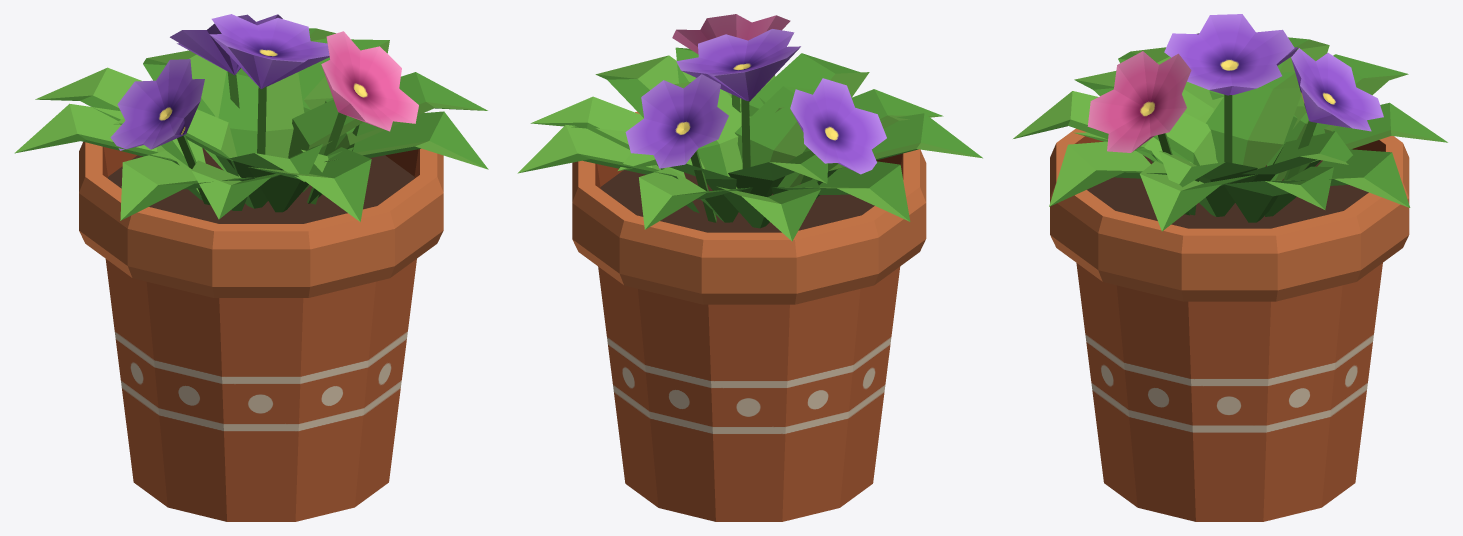
File: FMS_Deco_Pot_Medium.fbx
3 views of the same model, side by side, from view 1: azimuth 30°, elevation 25°; view 2: azimuth 150°, elevation 25°; view 3: azimuth 270°, elevation 25° (orthographic). The views are drawn at different scales.
Visible parts, largest first — view 1: item_decor_pot_medium; view 2: item_decor_pot_medium; view 3: item_decor_pot_medium.
Part boxes in pixels (x1=…): item_decor_pot_medium: x1=14, y1=14, x2=488, y2=521; item_decor_pot_medium: x1=517, y1=14, x2=982, y2=521; item_decor_pot_medium: x1=1013, y1=14, x2=1447, y2=521.
Size of the model in its own units: 0.2688 by 0.2834 by 0.2582.
